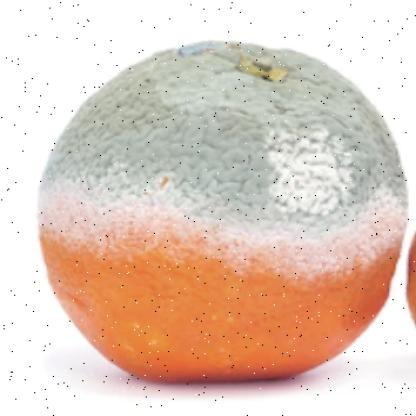rotten: (33, 38, 412, 383)
